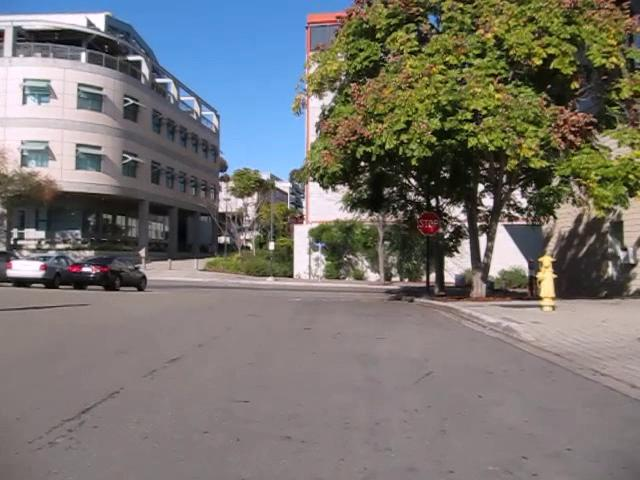stop: (415, 210, 441, 237)
